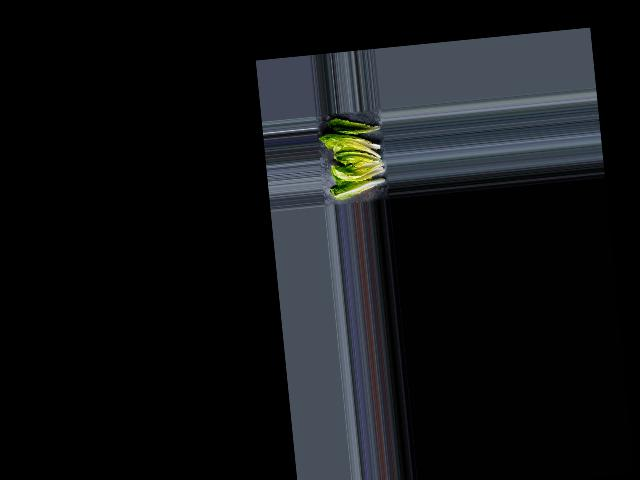lettuce: (327, 115, 382, 137)
